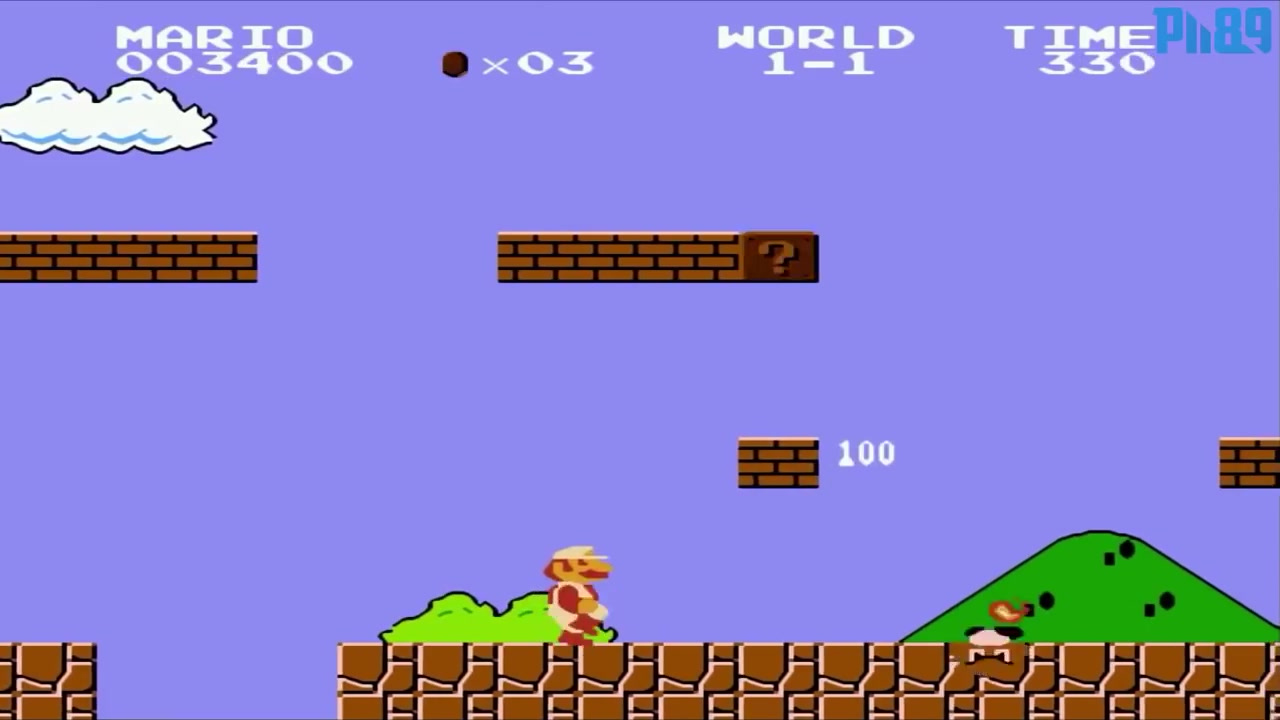mario: (521, 542, 629, 645)
